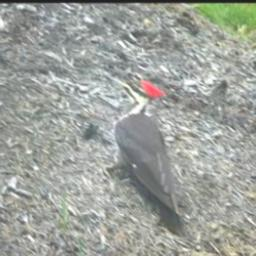Woodpecker: (97, 71, 193, 237)
